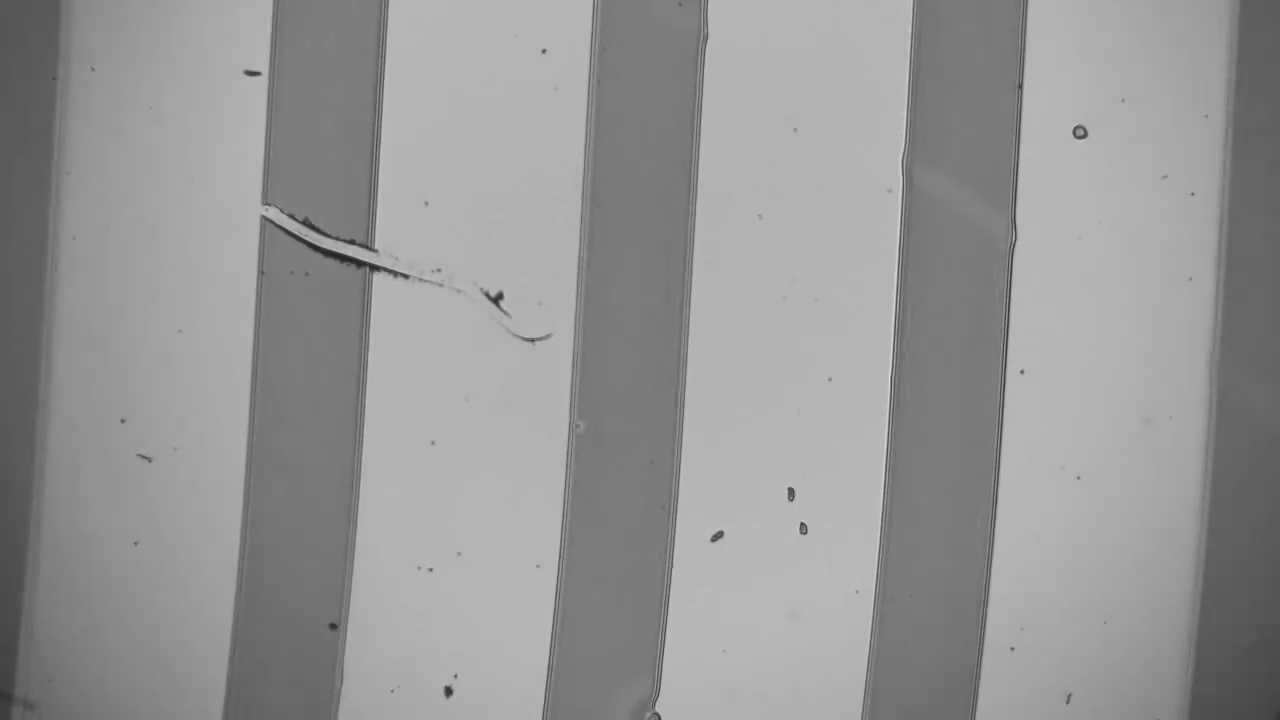Short_circuit: (217, 175, 403, 295)
